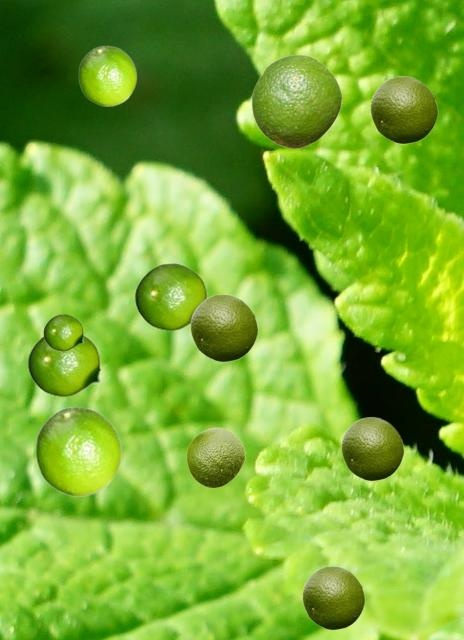calamansi: (251, 54, 341, 148), (35, 406, 121, 495), (27, 333, 108, 396), (134, 263, 210, 330), (370, 75, 437, 143), (190, 293, 257, 361), (302, 565, 364, 629), (341, 416, 403, 480), (186, 427, 244, 487), (78, 45, 136, 105), (43, 314, 87, 350)
